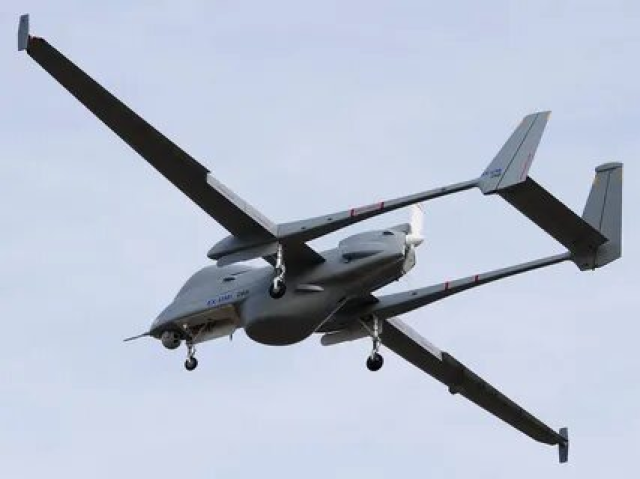military drone: (17, 14, 623, 463)
